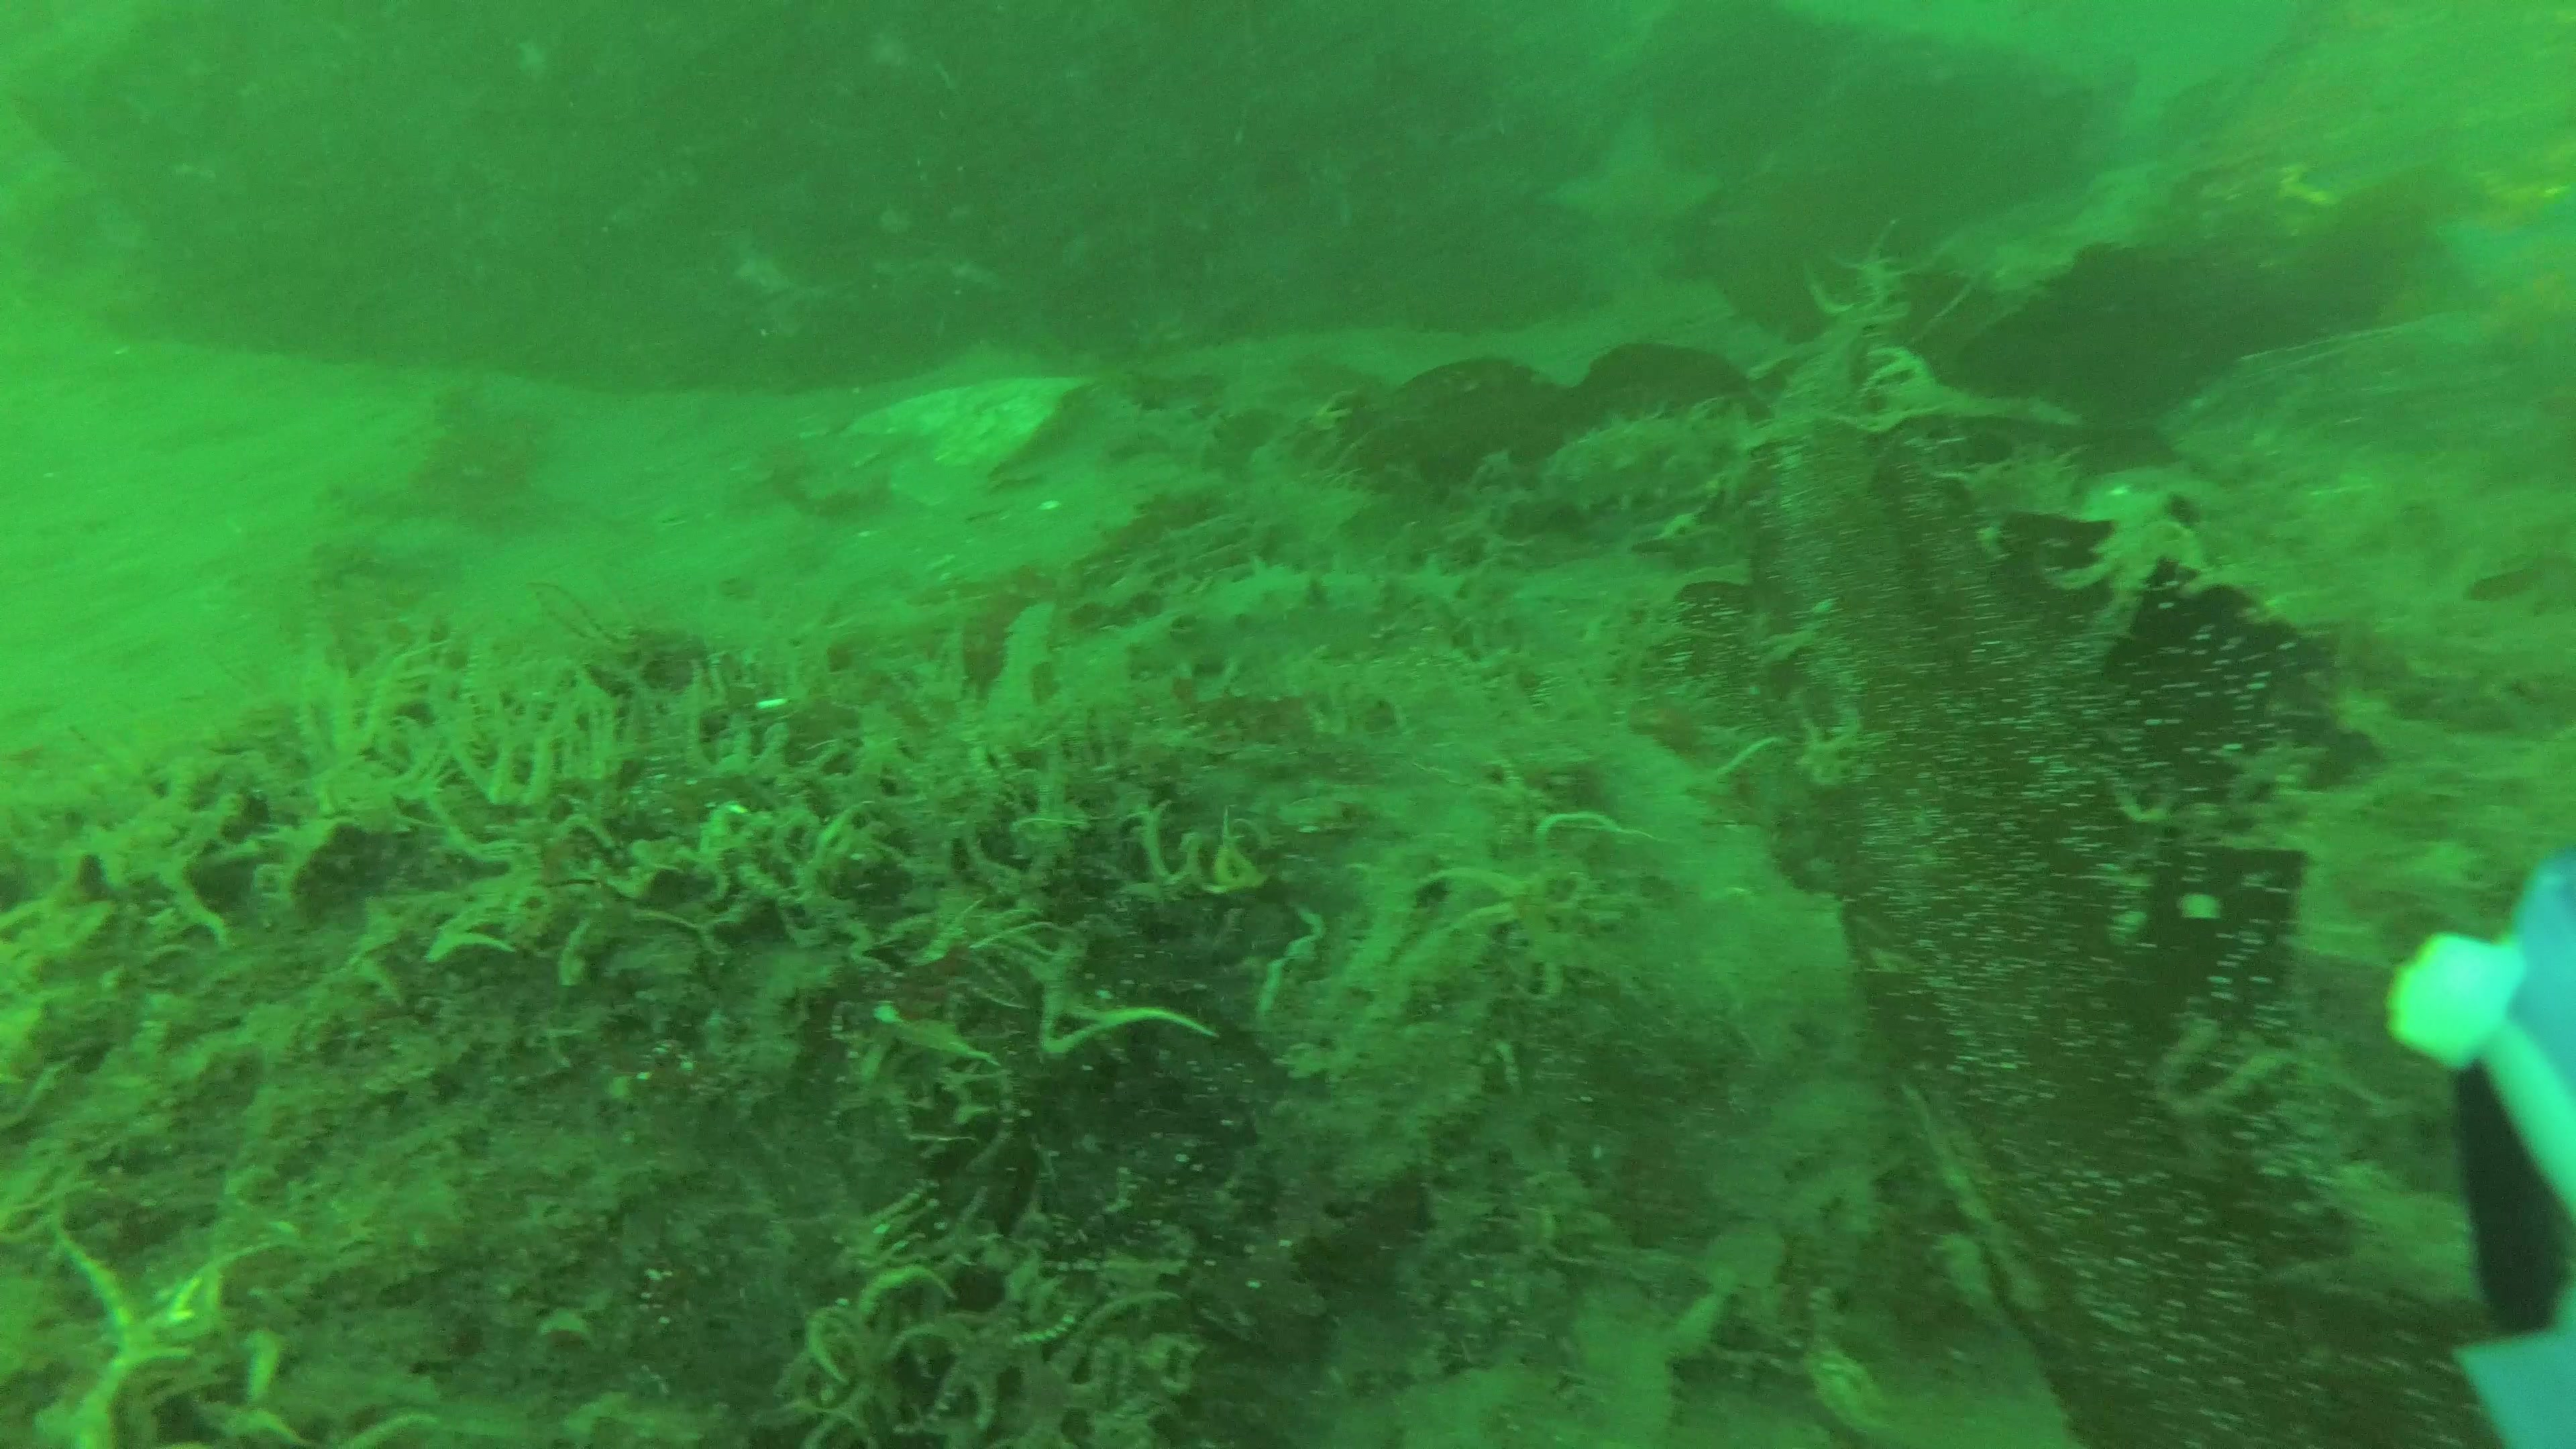holothurian: (1100, 548, 1486, 688), (1534, 410, 1785, 518)
starfish: (1541, 103, 1718, 287)
